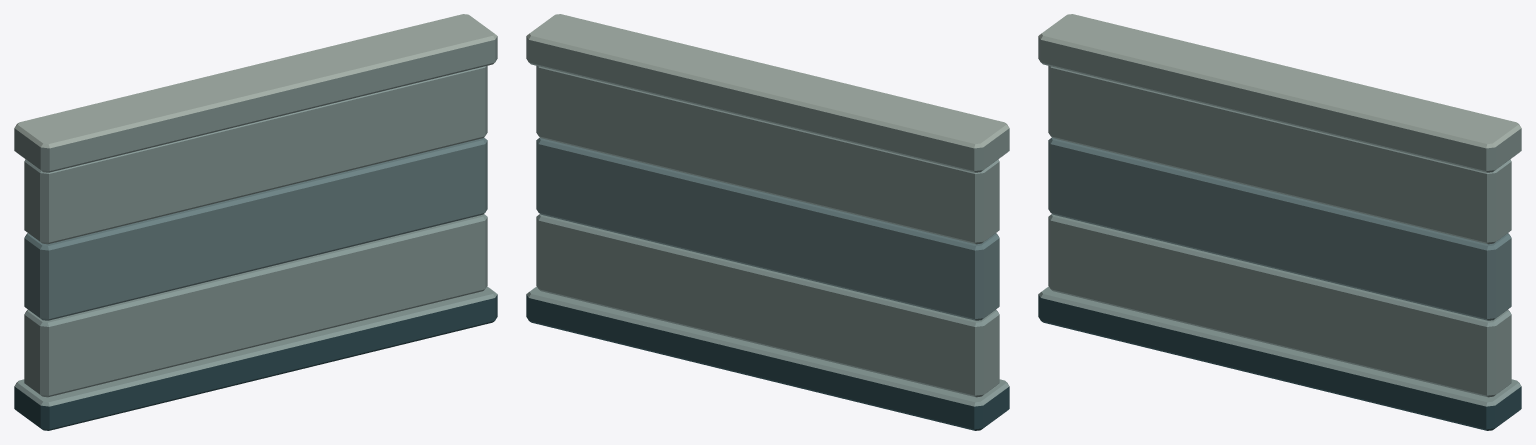
File: platform-edge.glb
3 views of the same model, side by side, from view 1: azimuth 30°, elevation 25°; view 2: azimuth 150°, elevation 25°; view 3: azimuth 330°, elevation 25° (orthographic).
Parts seen in each view (by area): view 1: platform-edge__body; view 2: platform-edge__body; view 3: platform-edge__body.
Part boxes in pixels (x1=…): platform-edge__body: x1=14, y1=14, x2=497, y2=430; platform-edge__body: x1=526, y1=14, x2=1009, y2=430; platform-edge__body: x1=1038, y1=14, x2=1521, y2=430.
Bounding box in the file's own units: 2 × 1.2 × 0.25.
